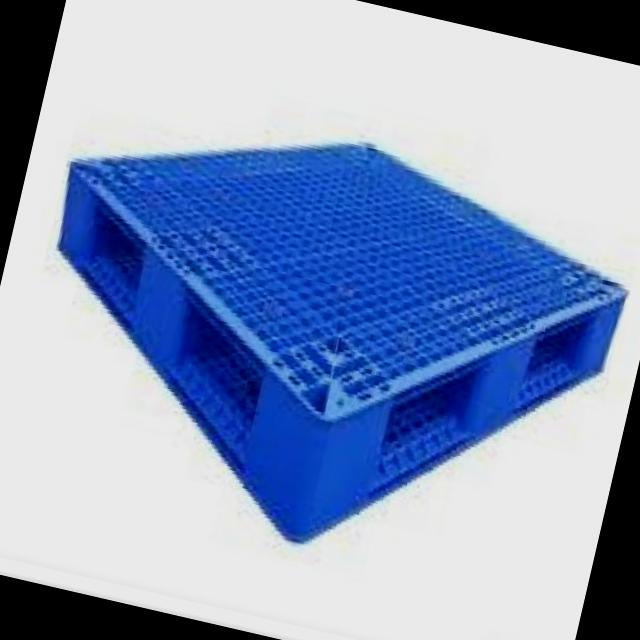pallet: (0, 68, 640, 622)
